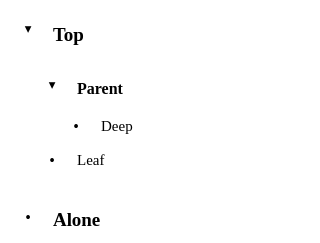
Test: OutlineEditor level classes by depth › shows the number of hidden rows on a folded branch
The image size is (320, 243).
Click the 1st button with class "outline-row__disclosure" at (28, 28), box [16,16,40,40]
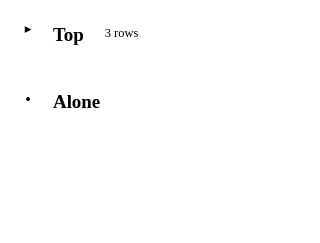
Expected: the text with class "outline-row__more" reads "3 rows", [105,26,138,40]
